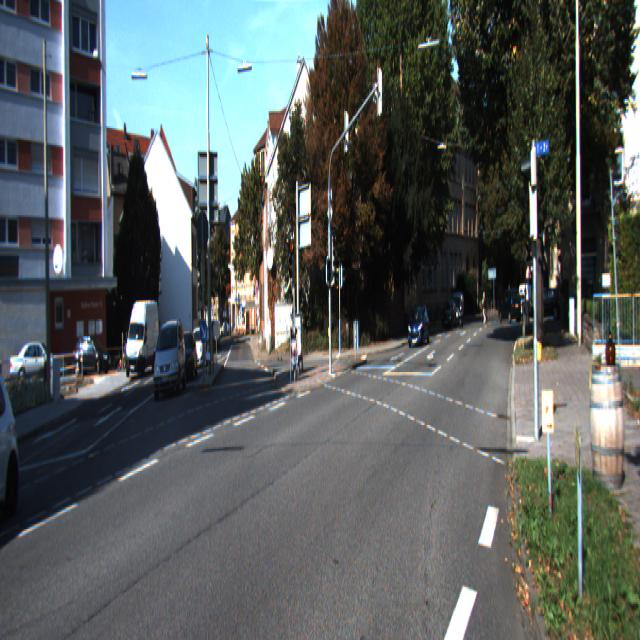Car: (0, 360, 25, 534), (153, 316, 187, 401), (125, 299, 160, 379), (9, 344, 61, 392), (407, 305, 431, 349), (458, 293, 465, 327)
